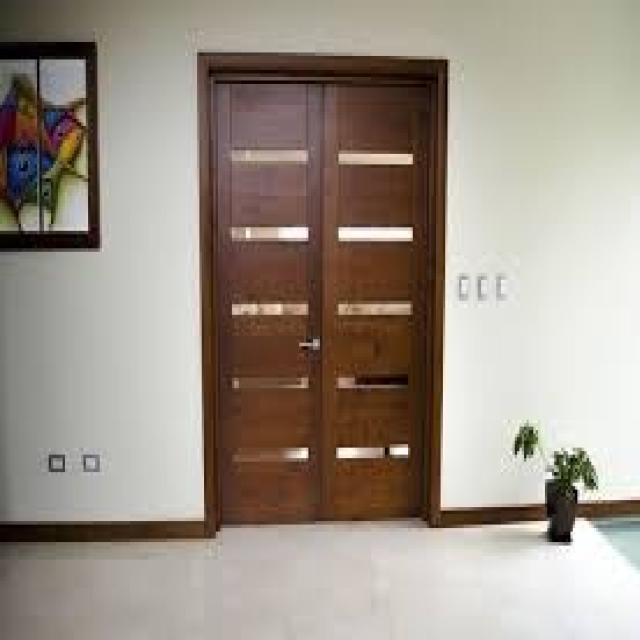door: (210, 71, 435, 526)
